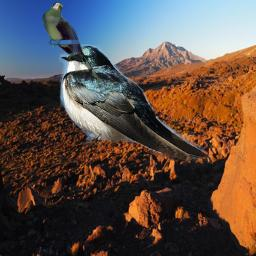Cuckoo: (42, 2, 106, 85)
Swallow: (59, 44, 211, 163)
